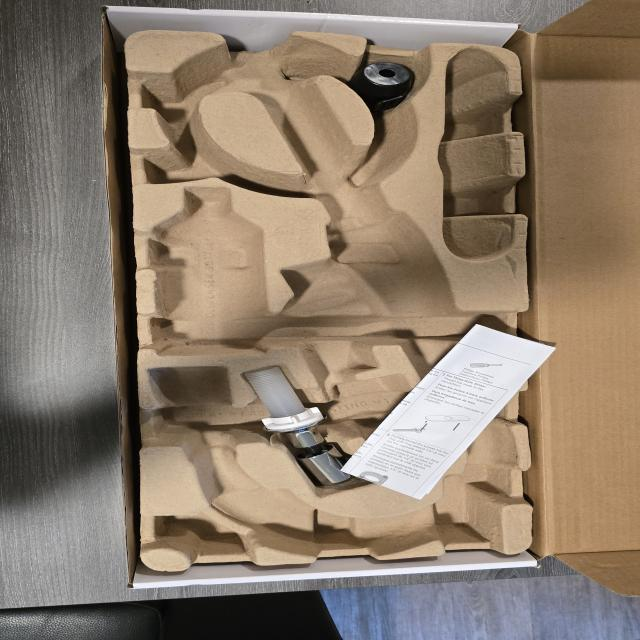1m: (151, 33, 514, 557)
2o: (242, 367, 434, 488)
3m: (151, 186, 263, 355)
4m: (439, 47, 512, 262)
5: (351, 59, 417, 111)
6m: (143, 57, 228, 124)
7m: (144, 129, 268, 188)
8: (335, 323, 556, 499)
